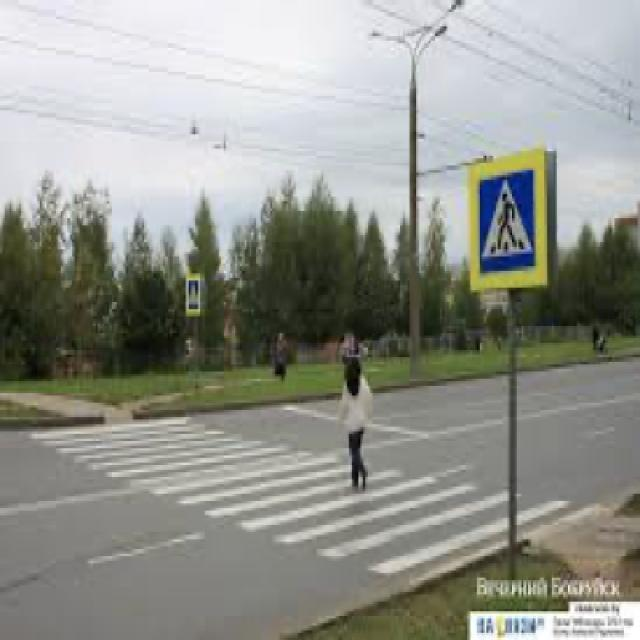crosswalk_sign: (476, 164, 536, 277)
